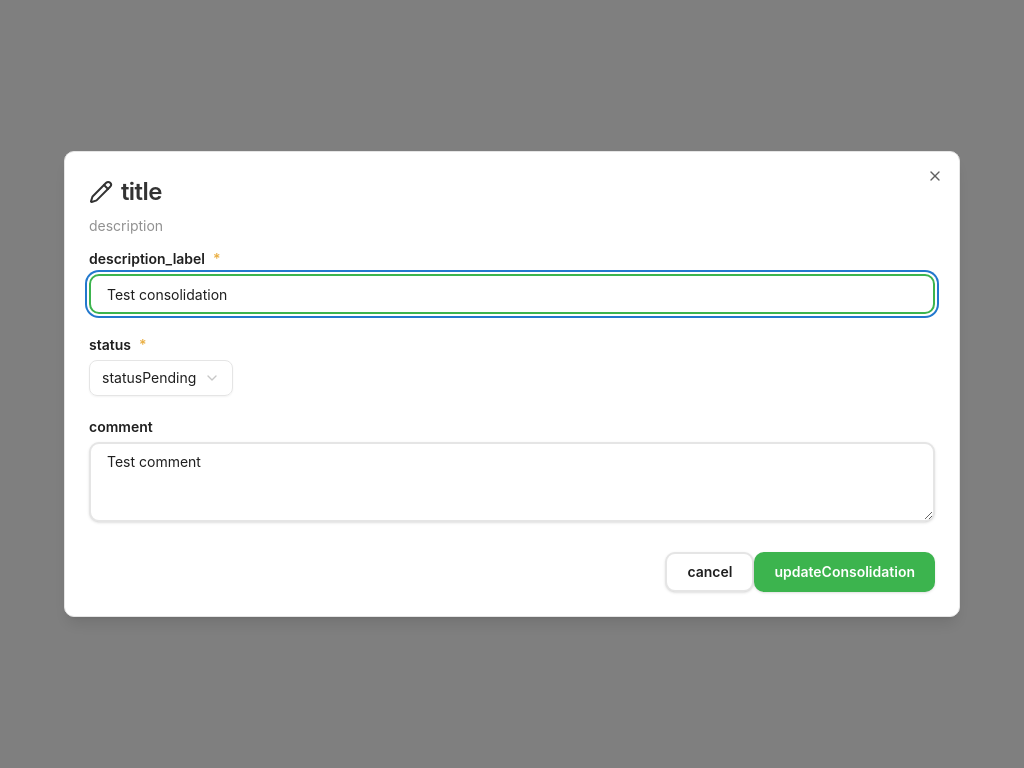
Test case: EditConsolidationDialog › shows validation error when description is empty
Clear the field showing "Test consolidation" at (512, 294), box [89,274,935,314]
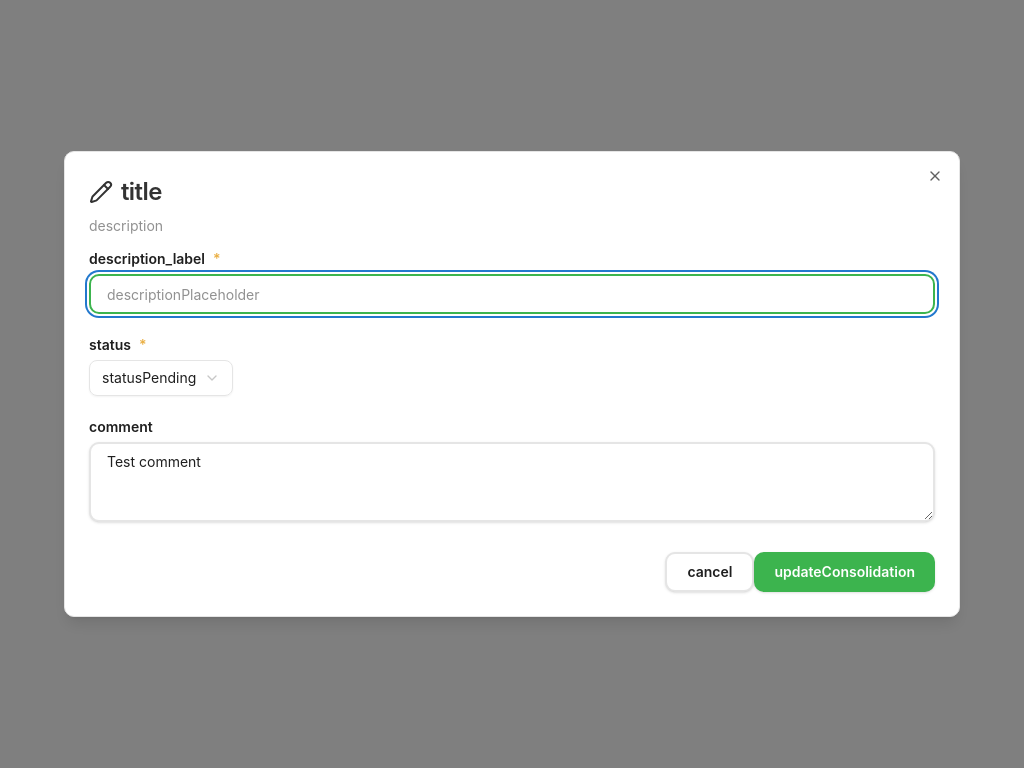
Click the button "updateConsolidation" at (845, 572), box [754,552,935,592]
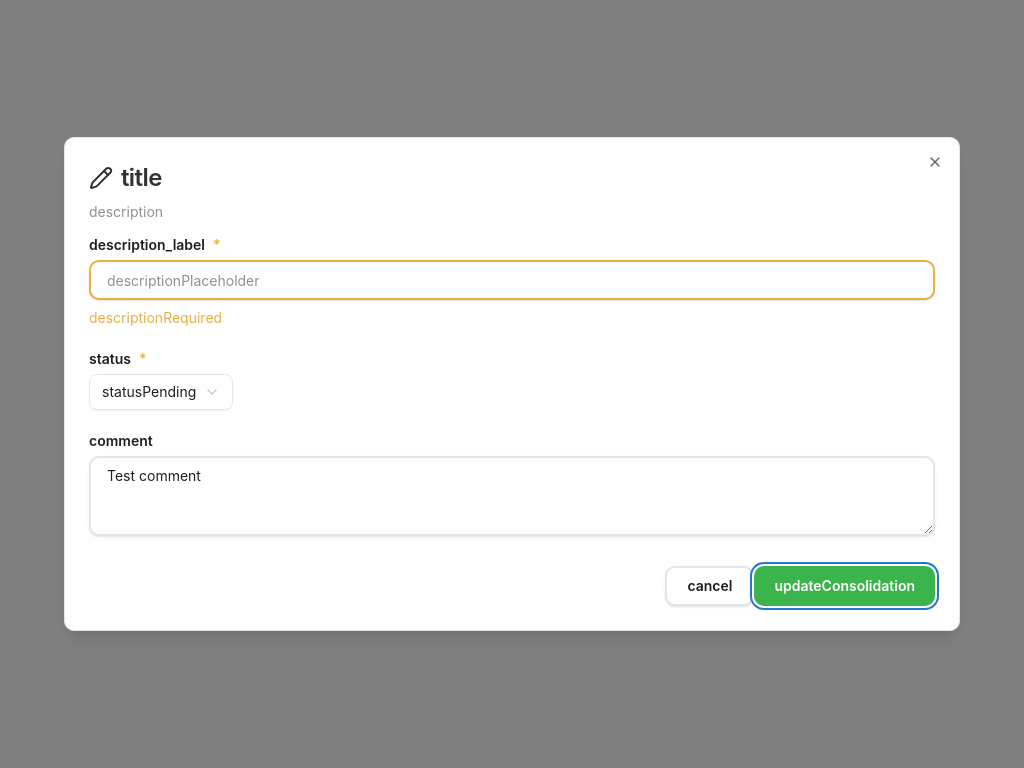
Result: the text "descriptionRequired" is shown at [89,309,222,326]
